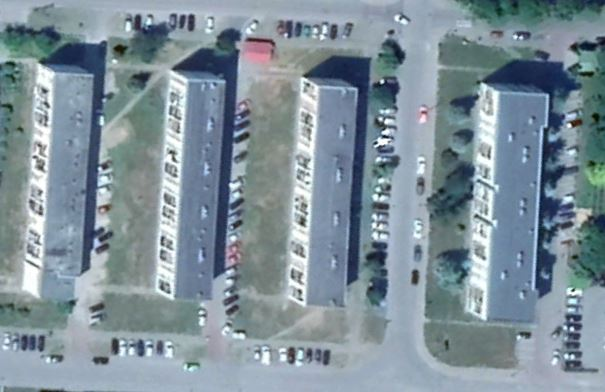block of flats: (456, 76, 553, 327), (19, 59, 103, 302), (281, 71, 362, 312), (152, 66, 232, 306)
